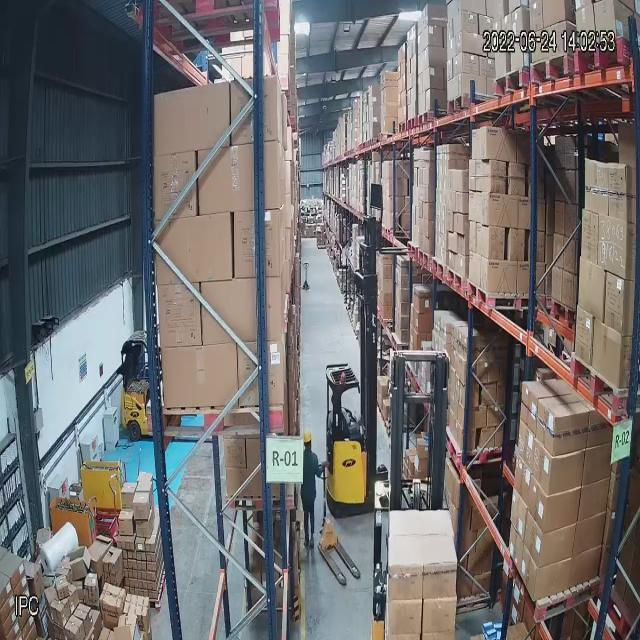box: (159, 347, 239, 406), (156, 221, 233, 282), (202, 282, 281, 340), (199, 155, 279, 205), (158, 95, 232, 144), (539, 395, 589, 450), (157, 287, 203, 345), (155, 154, 198, 215), (530, 478, 581, 529), (525, 509, 576, 560), (586, 158, 629, 218), (534, 440, 582, 490), (522, 543, 569, 591), (388, 536, 422, 596), (422, 536, 455, 597), (600, 216, 627, 273), (601, 265, 623, 334), (579, 258, 604, 318), (485, 125, 517, 161), (488, 194, 518, 227), (123, 592, 150, 621), (99, 583, 122, 616), (583, 211, 598, 261), (489, 263, 516, 290), (515, 457, 530, 504), (103, 548, 123, 582), (555, 137, 575, 169), (488, 227, 505, 260), (117, 502, 135, 533), (447, 195, 468, 221), (460, 28, 480, 54), (132, 491, 151, 518), (447, 169, 468, 192), (492, 160, 506, 194), (447, 145, 467, 168), (461, 50, 479, 75), (510, 162, 524, 193), (461, 9, 478, 33), (510, 232, 524, 261), (428, 48, 446, 68), (428, 25, 443, 47), (555, 203, 565, 234), (55, 580, 70, 599), (430, 69, 443, 90), (418, 314, 432, 333), (477, 361, 489, 383), (474, 407, 487, 427), (419, 292, 432, 311), (488, 359, 499, 381), (487, 406, 498, 426)
